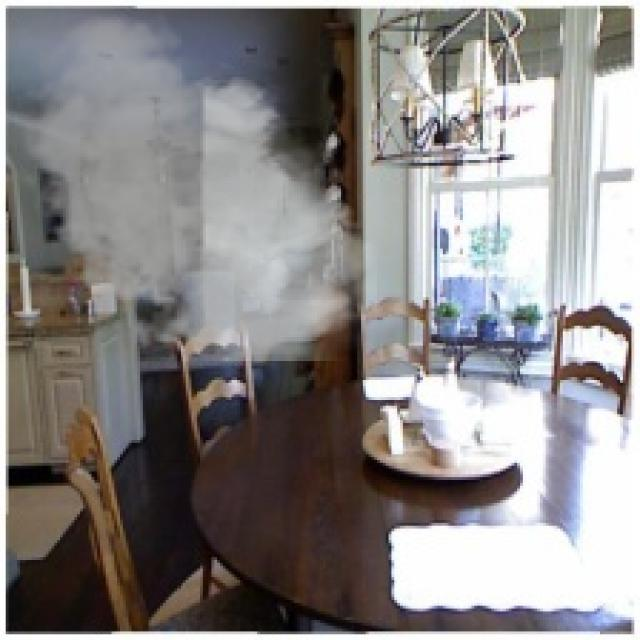smoke: (9, 9, 377, 374)
